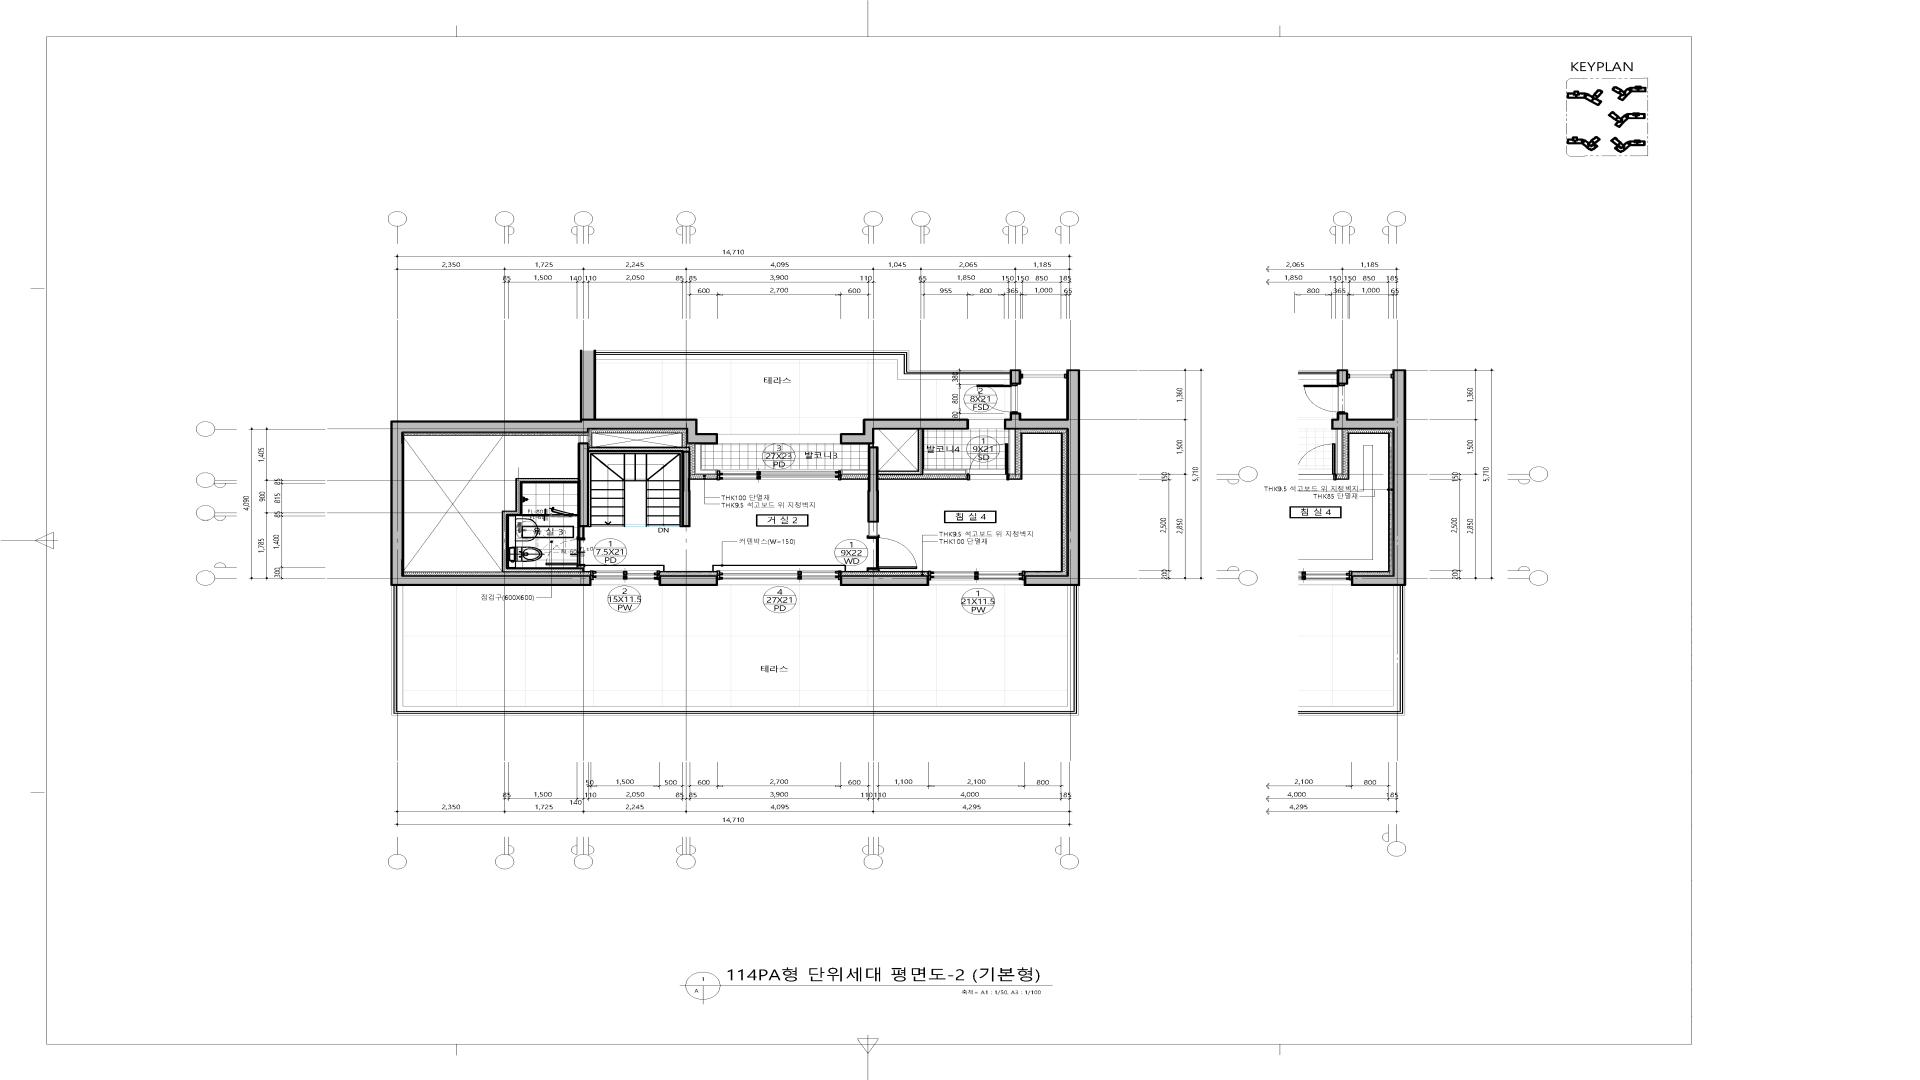door: (866, 537, 918, 571), (967, 443, 1009, 480), (976, 385, 1018, 413), (546, 538, 585, 567)
wall: (392, 585, 1079, 715), (390, 349, 719, 585), (1004, 369, 1080, 585), (596, 351, 1010, 380), (502, 477, 584, 572), (878, 430, 967, 475), (840, 418, 969, 444), (578, 442, 589, 527), (840, 575, 930, 585), (868, 447, 880, 522), (682, 451, 691, 527), (695, 444, 717, 475), (658, 575, 719, 585), (589, 447, 690, 452), (1009, 430, 1015, 475), (1010, 369, 1021, 385), (841, 469, 868, 475), (869, 522, 878, 537), (578, 527, 584, 538), (579, 435, 588, 442)
window: (719, 570, 840, 585), (930, 571, 1023, 585), (717, 469, 841, 480), (719, 434, 840, 443), (592, 570, 658, 585), (1022, 371, 1067, 378), (969, 419, 1004, 429)
